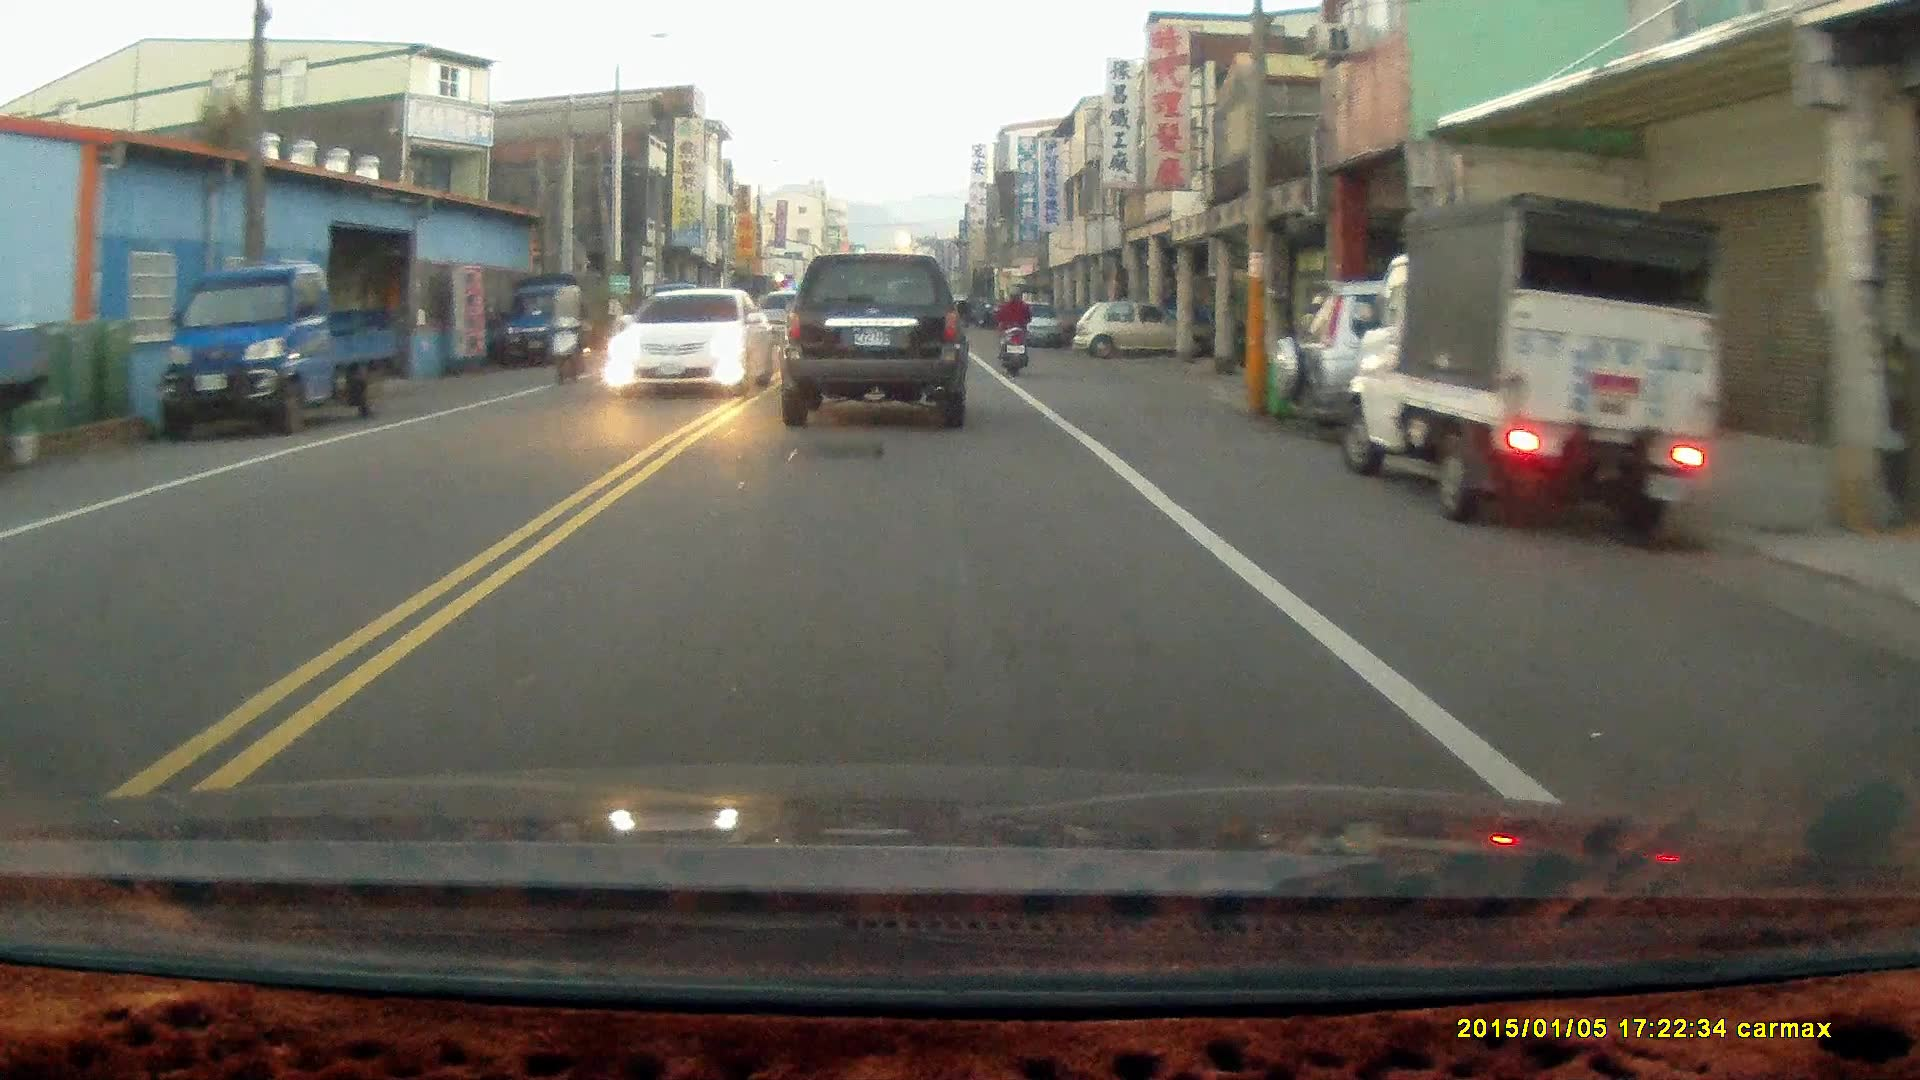rider: (542, 283, 592, 386), (994, 279, 1031, 375)
vehicle: (1349, 186, 1719, 554), (1270, 277, 1649, 436), (160, 270, 405, 438), (778, 251, 973, 429), (605, 288, 780, 399), (493, 272, 614, 370), (1075, 299, 1176, 357)
